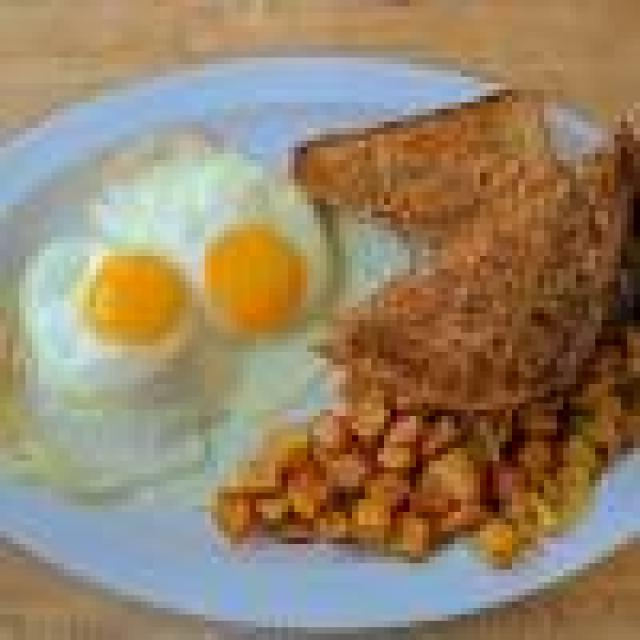Egg: (25, 131, 332, 417)
